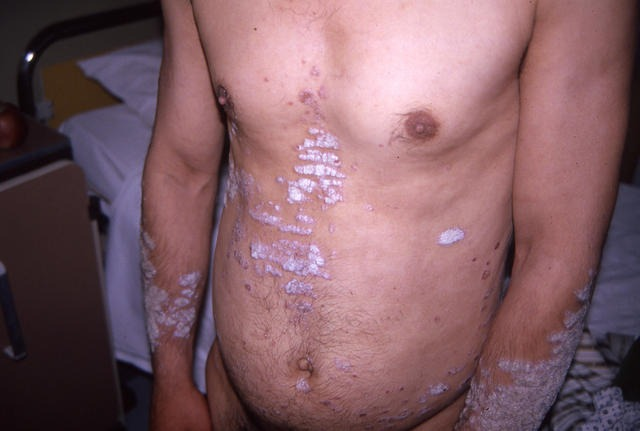Psoriasis: (463, 268, 594, 431), (125, 226, 177, 349), (287, 120, 349, 209), (252, 235, 334, 275), (240, 205, 322, 237), (427, 220, 469, 252), (178, 266, 207, 292)
